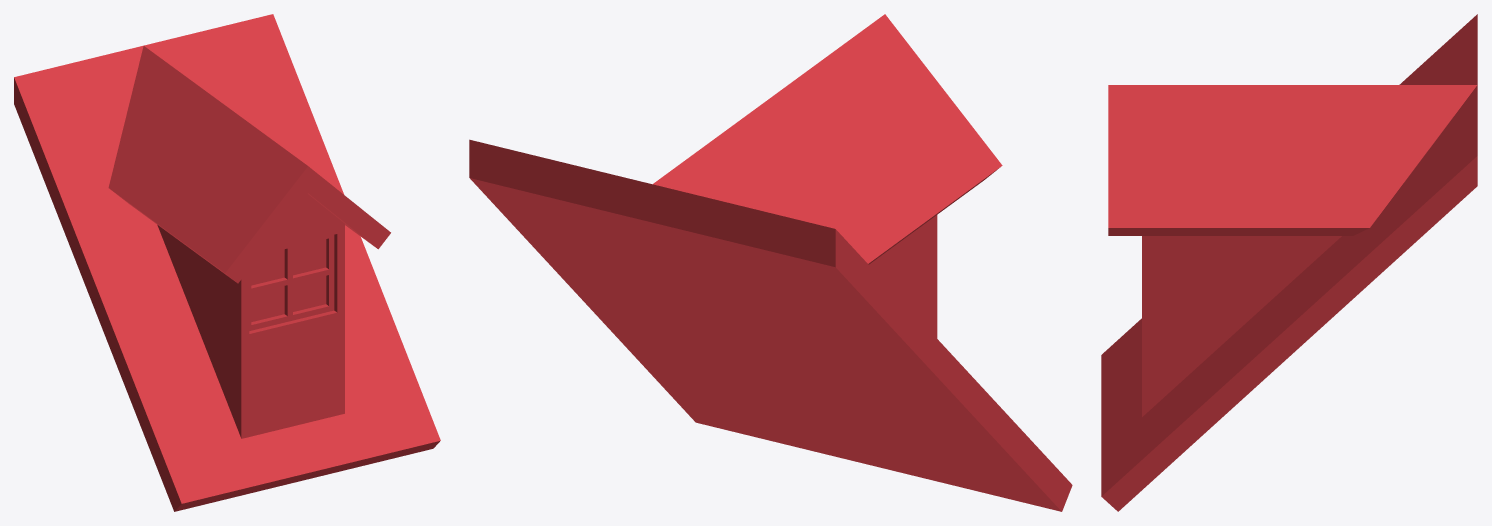
Rendered from roof_dormer3.glb.
3 renders of one model, left to right at view 1: azimuth 30°, elevation 25°; view 2: azimuth 150°, elevation 25°; view 3: azimuth 270°, elevation 25°, orthographic. The views are drawn at different scales.
Parts seen in each view (by area): view 1: roof_dormer3; view 2: roof_dormer3; view 3: roof_dormer3.
Boxes of the visible parts, x1,y1,x2,y2 form: roof_dormer3: (14, 14, 440, 511); roof_dormer3: (469, 14, 1072, 511); roof_dormer3: (1101, 14, 1477, 511).
Bounding box in the file's own units: 1 × 1.17 × 1.12.
